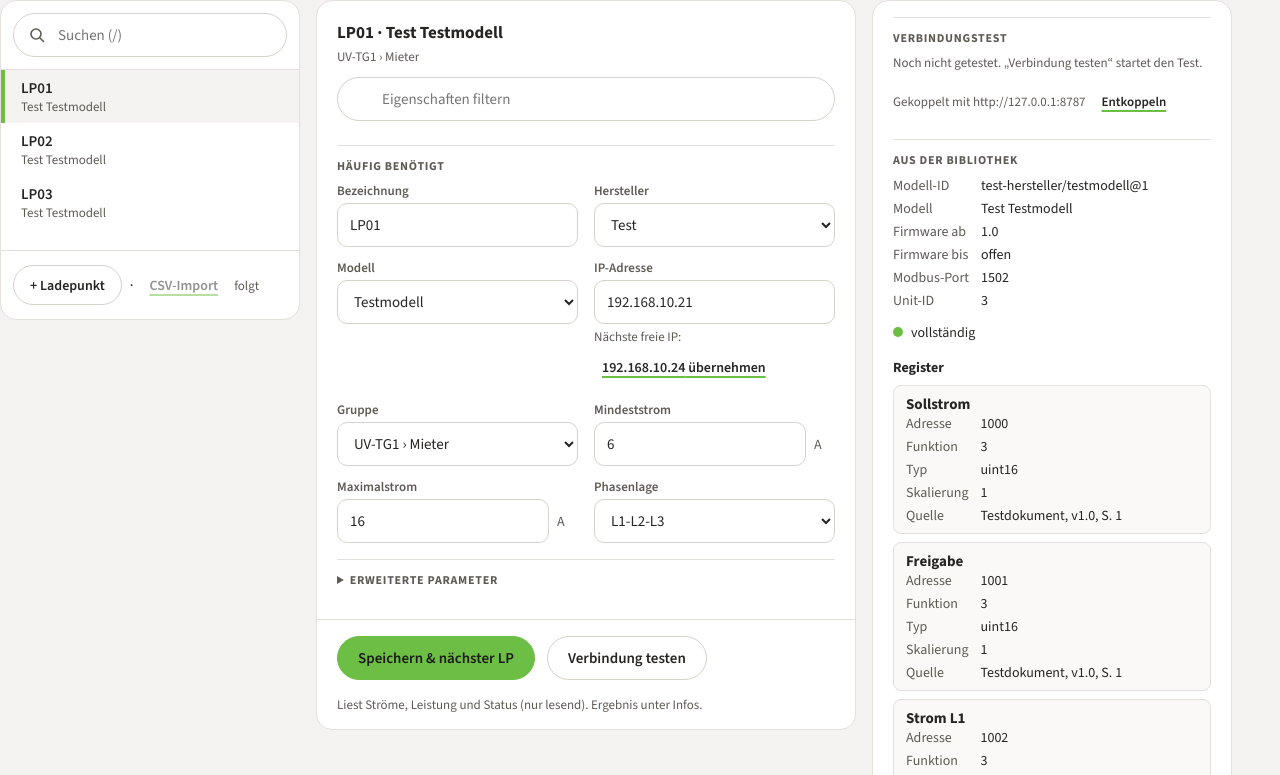
Test: Verbindung testen › Erfolg: Pill „Erreichbar · 18 ms“ und Werte mit Einheit; Anfrage mit Token und Modell
Click the button "Verbindung testen" at [627, 658], box [547,636,707,680]
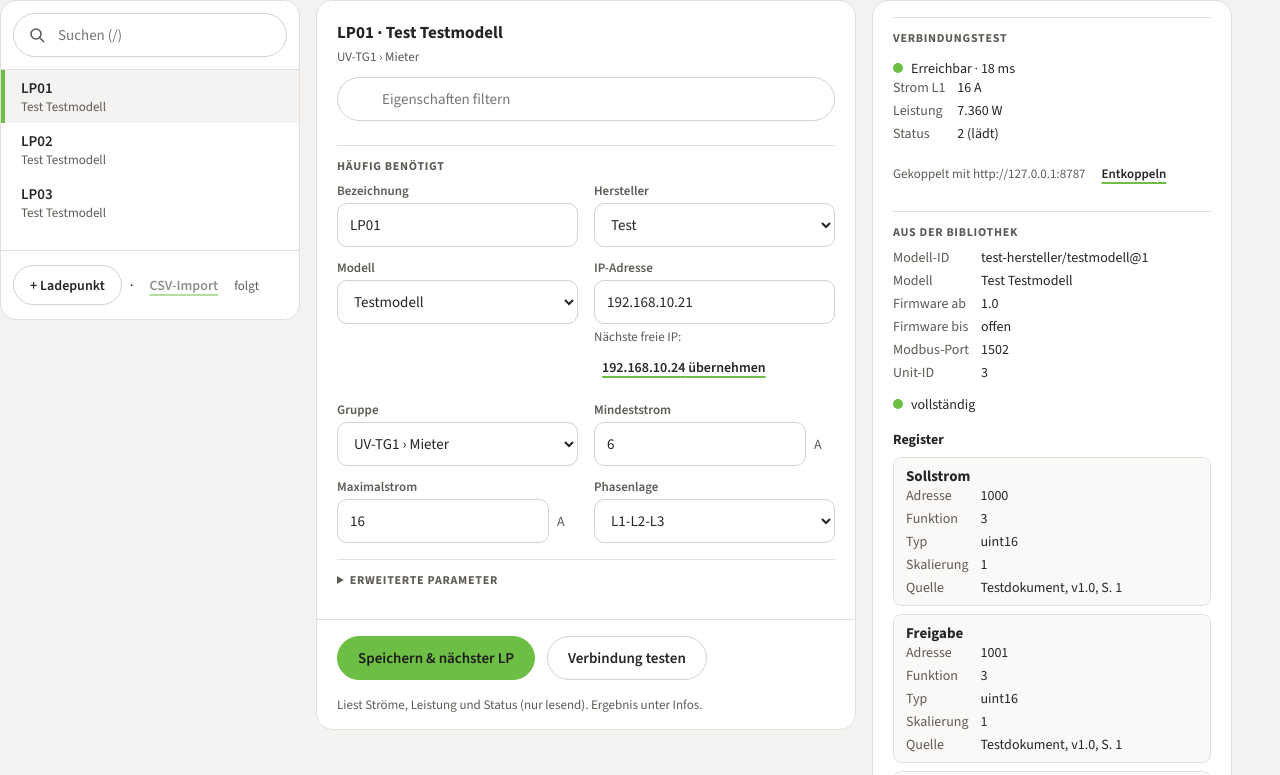
expect the text "Erreichbar · 18 ms" is shown: met, box [893,58,1015,78]
expect the text "16 A" is shown: met, box [957,78,982,97]
expect the text "7.360 W" is shown: met, box [957,101,1002,120]
